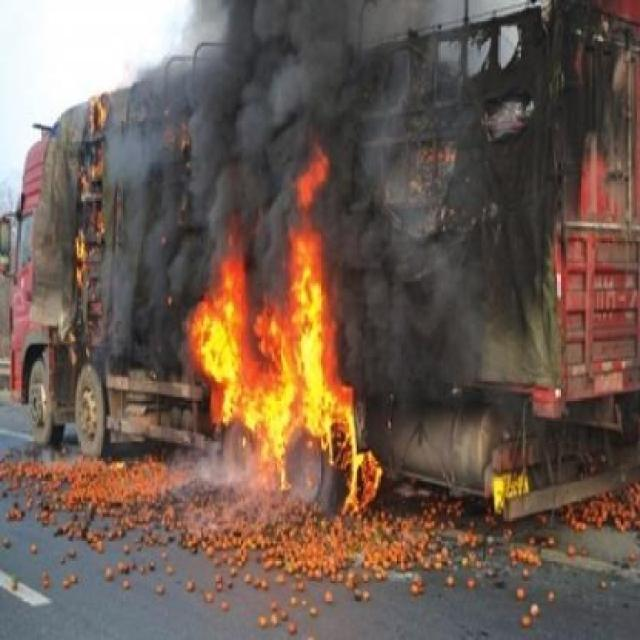Fire: (198, 183, 380, 515)
Smoke: (198, 3, 522, 179), (85, 47, 194, 370), (364, 187, 456, 428)
